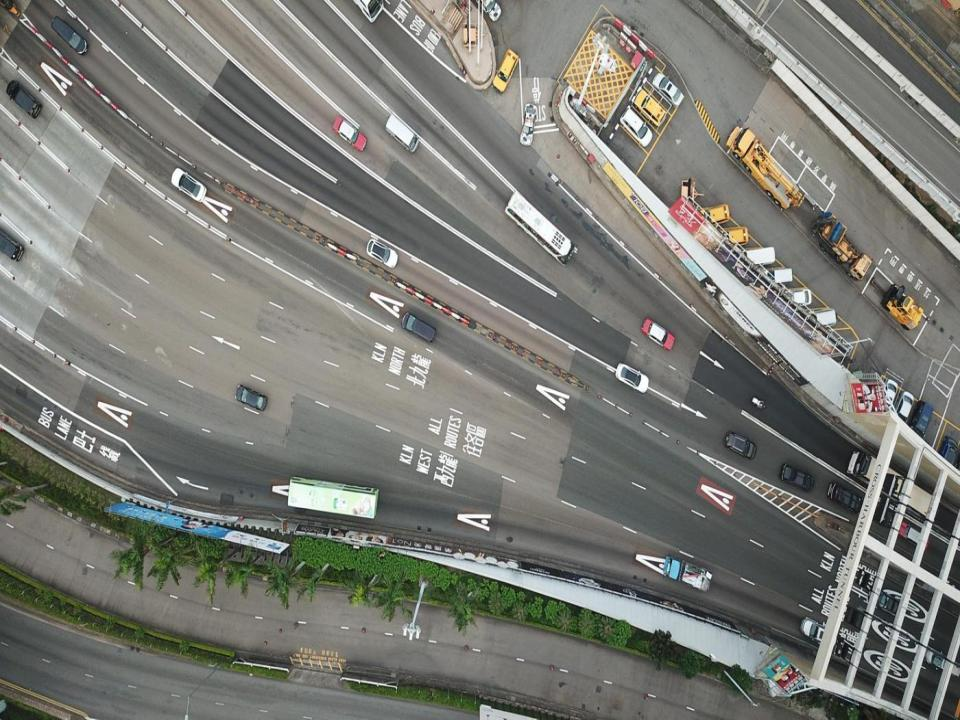bus: (847, 452, 941, 524), (504, 190, 576, 265), (287, 475, 378, 519)
car: (332, 113, 367, 152), (170, 166, 206, 203), (894, 517, 929, 551), (652, 71, 683, 108), (642, 318, 675, 350), (616, 362, 649, 393), (724, 430, 756, 460), (780, 464, 814, 492), (367, 238, 398, 267), (236, 384, 268, 411), (873, 378, 897, 413), (934, 436, 958, 470), (892, 391, 913, 428), (519, 103, 536, 146), (778, 288, 811, 306), (474, 0, 501, 20)
truck: (724, 124, 804, 213), (809, 209, 872, 281), (664, 554, 712, 592)
van: (51, 15, 88, 56), (6, 79, 42, 119), (385, 114, 419, 154), (620, 107, 652, 147), (828, 482, 865, 516), (633, 89, 666, 127), (493, 48, 518, 94), (923, 646, 960, 676), (869, 586, 901, 618), (402, 312, 436, 342), (800, 618, 833, 648), (910, 400, 934, 440), (0, 226, 24, 263), (736, 246, 775, 268), (711, 226, 749, 248), (693, 204, 730, 226), (800, 308, 837, 328), (759, 269, 793, 285)
